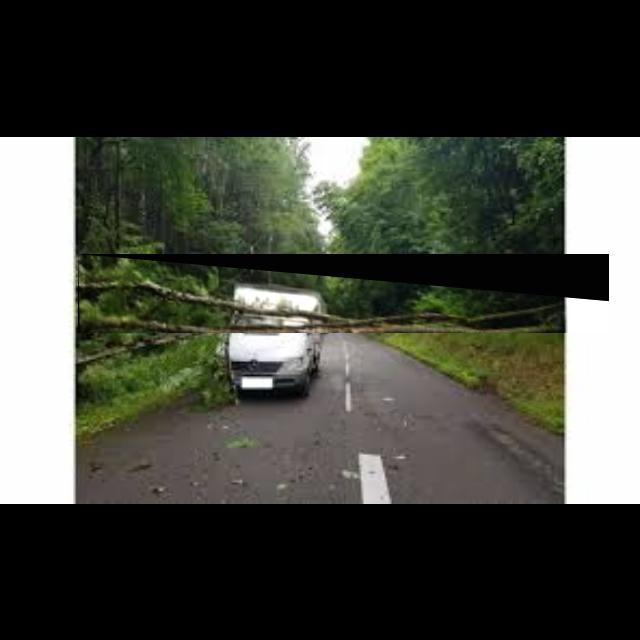fallen_tree: (78, 254, 610, 334)
